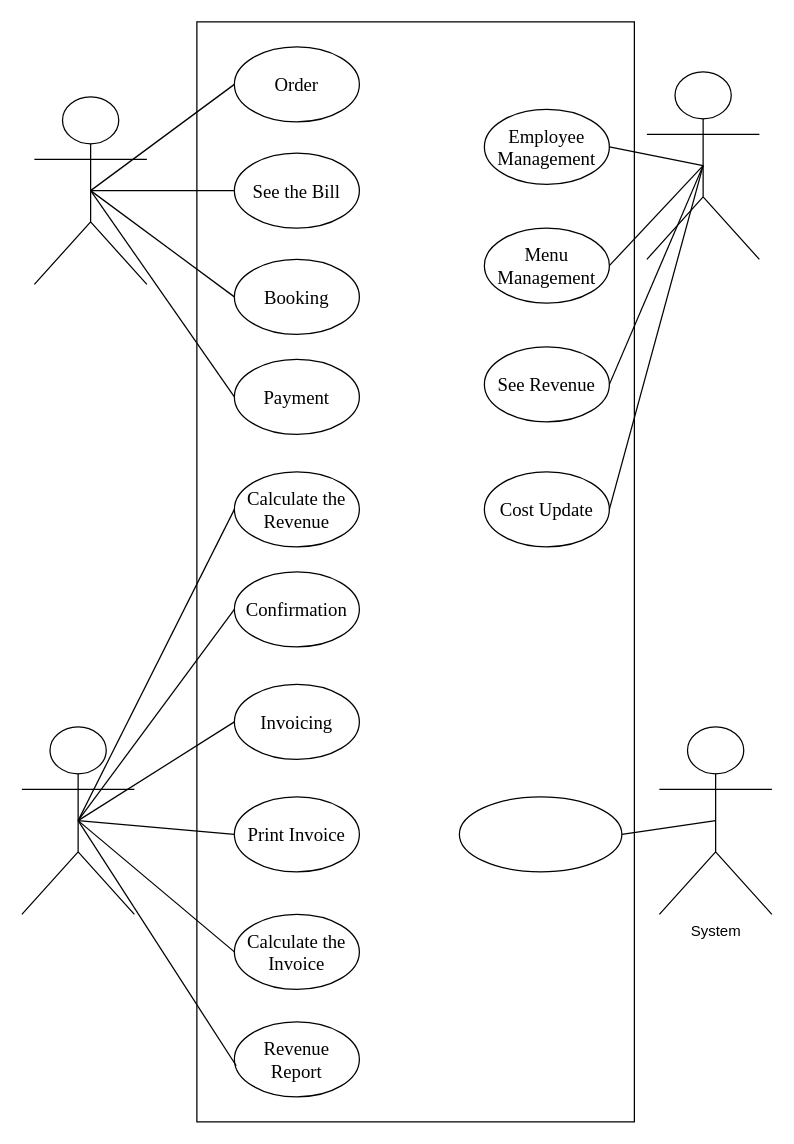
Image size: 794x1144. Some labels were removed from this diagram. The shapes that lost their labels are listed below. From the top down, each one's centre as x and y in pixels, then its label:
(702,165): Manager
(90,190): Customer
(77,820): Employee
(540,834): Online Managemenet
